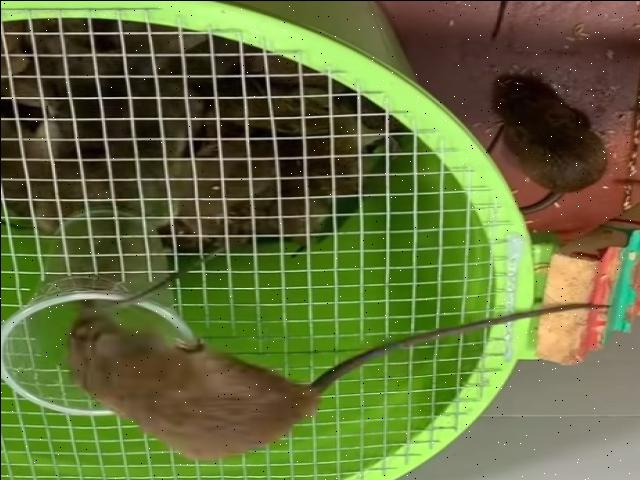Tikus: (64, 304, 606, 460), (484, 75, 610, 217)
